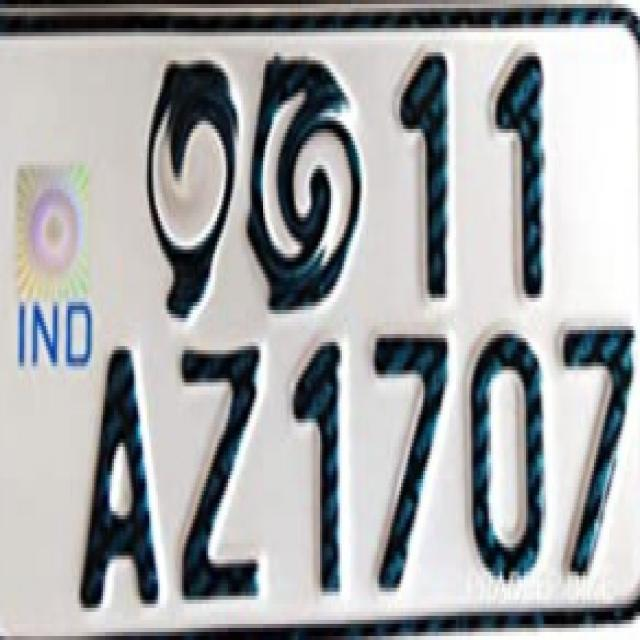0: (467, 317, 553, 593)
1: (386, 42, 464, 311), (286, 322, 353, 608), (498, 57, 552, 303)
7: (363, 319, 452, 616), (553, 300, 640, 601)
A: (62, 332, 166, 618)
Z: (170, 330, 270, 624)
